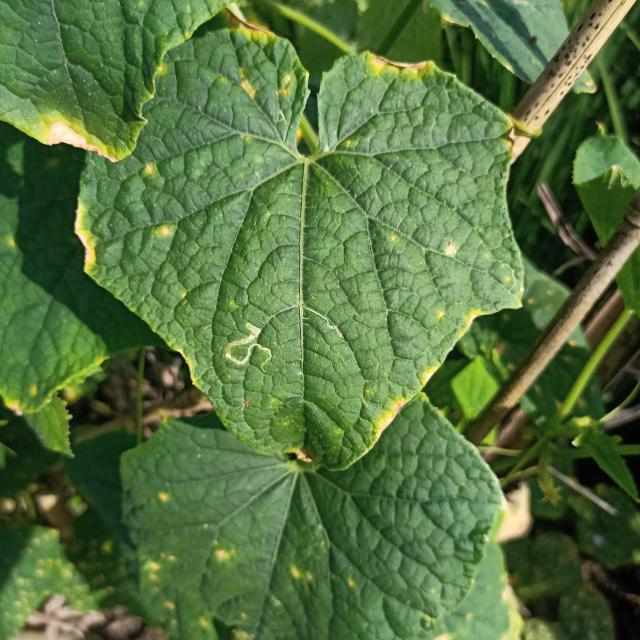disease_cucumber: (236, 63, 296, 107), (434, 302, 482, 331), (155, 222, 177, 240), (440, 241, 460, 260), (144, 162, 156, 176)
